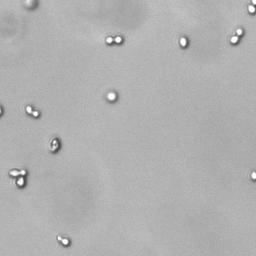budding: (9, 166, 27, 188), (229, 27, 244, 46), (25, 105, 40, 118), (105, 35, 123, 45), (56, 235, 71, 247), (247, 1, 256, 13)
contamination: (48, 135, 62, 155)
individual: (178, 35, 188, 48), (106, 90, 117, 101), (250, 170, 256, 182)
